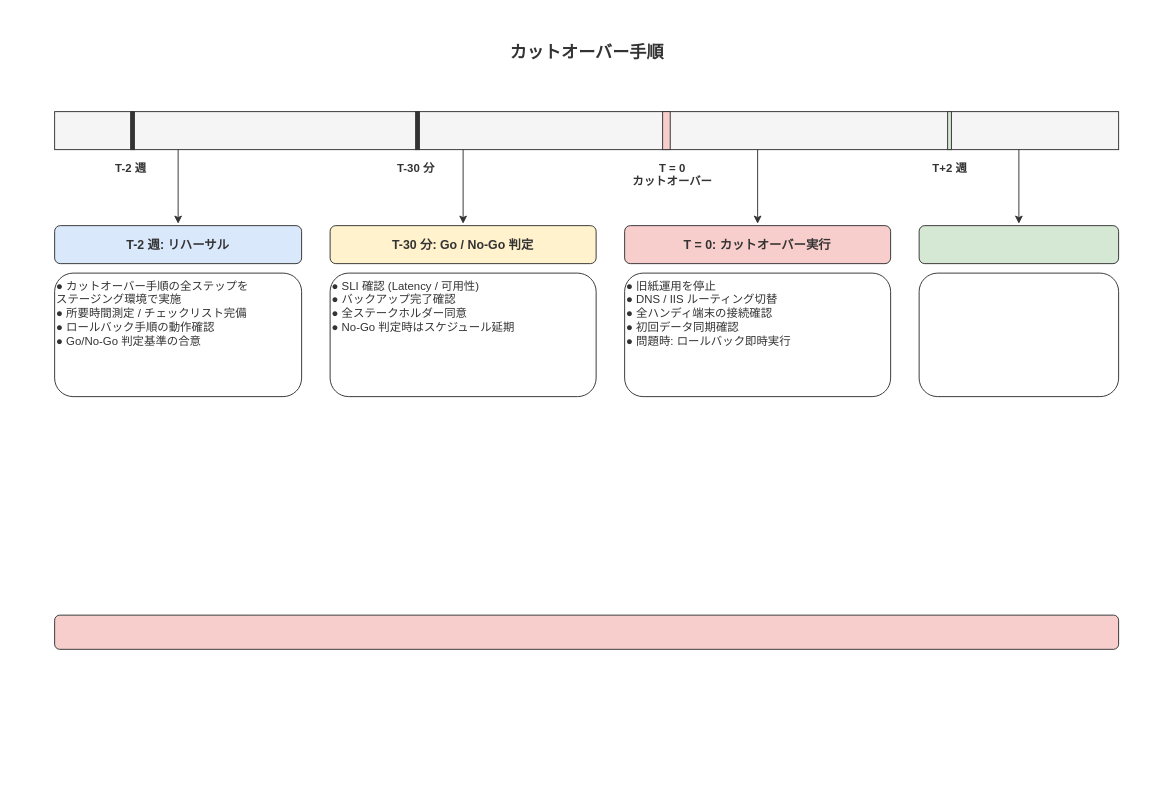
Image size: 1172x792. Some labels were removed from this diagram. Here are the shapes that lost their labels. From the top down, the box of each, then its label:
(918, 225, 1119, 264): T+2 週: 集中監視
(918, 272, 1119, 397): ● 24h 監視体制 (1 週目) ● SLI ダッシュボード常時監視 ● 異常時対応: 15 分以内 ● ポストモーテム作成 ● 通常運用体制へ移行
(54, 614, 1119, 649): ロールバック判定条件: カットオーバー後 1 時間以内に重大障害 (P0) 発生 → 旧運用復帰を system_admin が判断
